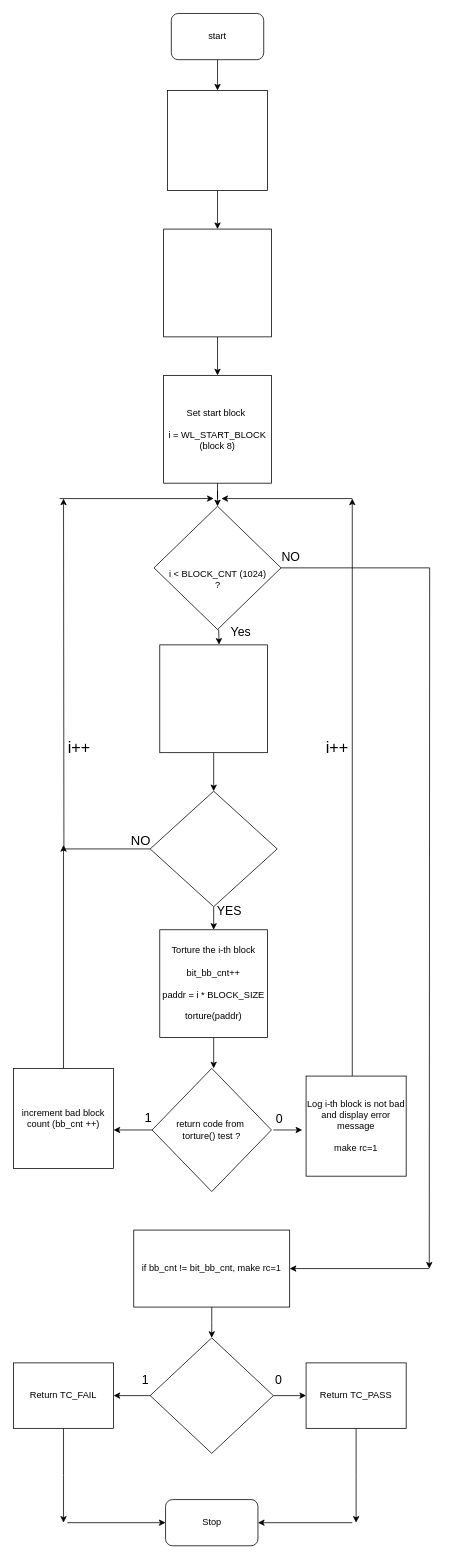
This 450x1559 diagram has some shape labels left out. The shapes that lost their labels are listed below. From the top down, each one's box as (x1, y1, x2, y2) in pixels, then its label:
(167, 90, 268, 191): Save current BIT to flash from ltffs.c fs_save_bit()
(163, 228, 271, 337): Get BIT from flash and load it to TEST_BIT array in test_flash.c get_test_bbt()
(159, 644, 268, 753): Get status of the i-th block from TEST_BIT blk_stat = test_bit_get_status(i)
(149, 790, 277, 907): blk_stat == BLK_BAD ?
(149, 1337, 273, 1453): rc ?
